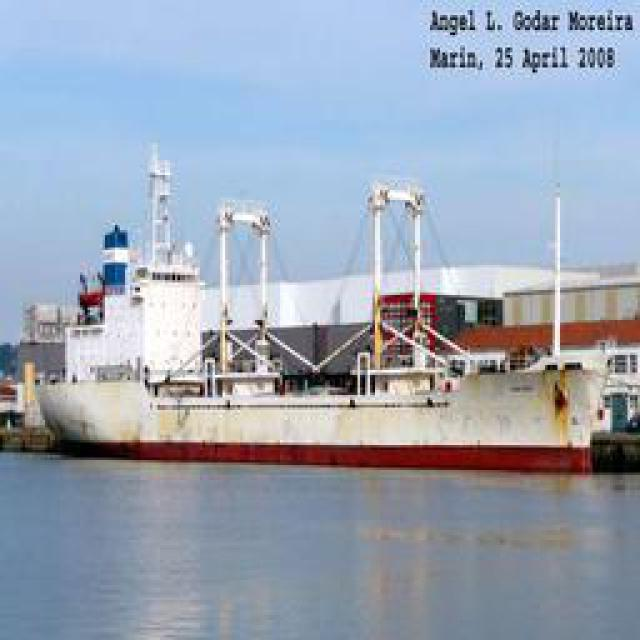Ship: (21, 154, 624, 457)
